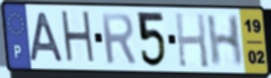5: (134, 11, 169, 69)
A: (28, 11, 66, 64)
H: (59, 9, 98, 68), (173, 11, 211, 70), (205, 14, 245, 69)
R: (99, 10, 139, 66)
